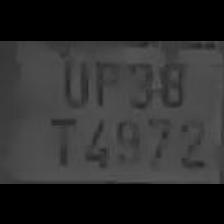2: (174, 112, 206, 164)
3: (123, 54, 155, 110)
4: (79, 111, 111, 169)
7: (142, 114, 174, 168)
8: (154, 54, 186, 106)
9: (111, 114, 142, 166)
P: (88, 52, 120, 106)
T: (42, 110, 79, 168)
U: (50, 50, 90, 106)
